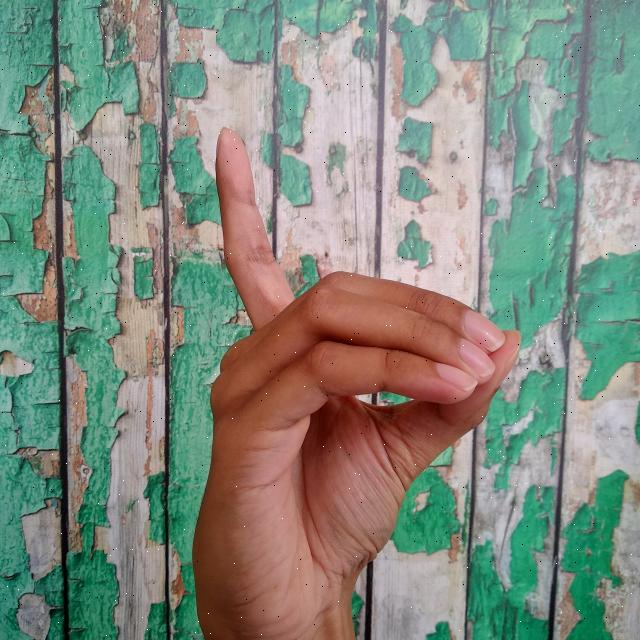D: (189, 119, 525, 640)
